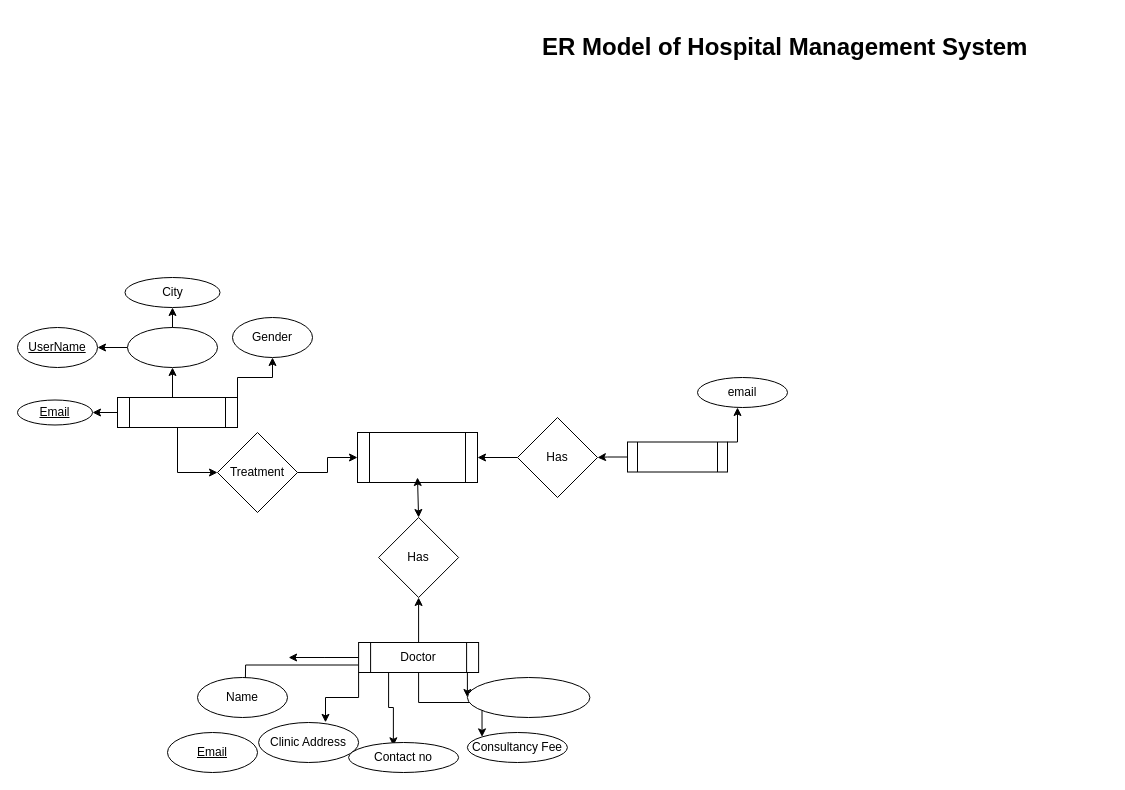
Some shapes in this 1125 by 790 pixel diagram are drawn without their labels. The centre of each missing label's shape, as x and y in pixels:
"Address" goes at pixel 172 347.
"Admin" goes at pixel 677 456.
"HMS" goes at pixel 417 457.
"Patient" goes at pixel 177 412.
"Specialization" goes at pixel 528 697.
